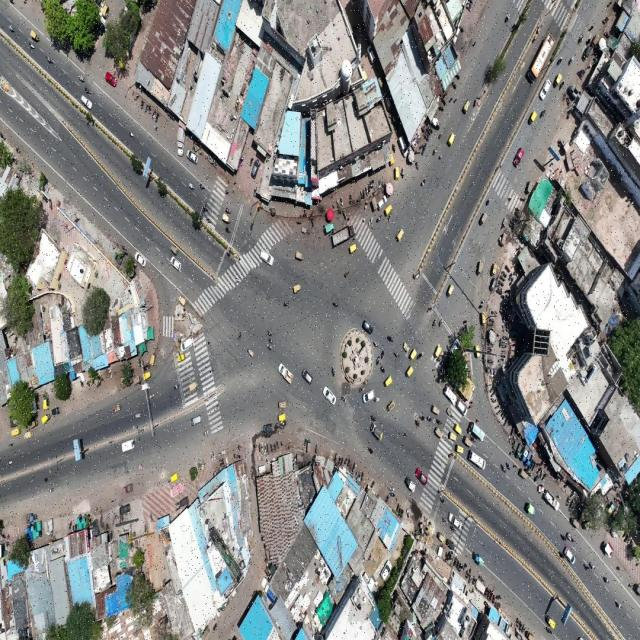3W: (402, 475, 417, 495), (544, 610, 557, 628), (446, 282, 456, 298), (294, 247, 305, 261), (446, 427, 456, 442), (432, 426, 443, 439), (189, 380, 199, 394), (30, 28, 39, 43), (386, 400, 396, 413), (452, 420, 462, 433), (529, 108, 537, 124), (434, 344, 442, 360), (384, 374, 393, 388), (40, 414, 51, 425), (221, 212, 232, 223), (22, 430, 34, 440), (463, 100, 470, 116), (169, 471, 179, 482), (292, 282, 302, 293), (170, 244, 181, 254), (348, 244, 359, 254), (457, 444, 466, 456), (463, 435, 472, 447), (397, 227, 404, 242), (480, 212, 488, 225), (432, 402, 440, 415), (445, 408, 454, 419), (42, 397, 49, 411), (448, 134, 455, 148), (410, 347, 417, 361), (478, 260, 484, 276), (150, 352, 157, 365), (10, 428, 20, 437), (384, 204, 393, 214), (406, 365, 414, 376), (446, 538, 454, 549), (520, 467, 527, 479), (437, 533, 444, 544), (134, 376, 142, 385), (555, 72, 561, 84), (441, 512, 447, 524), (177, 355, 187, 362), (142, 373, 152, 380), (440, 492, 445, 506)
Bus: (526, 32, 555, 80)
Cars: (259, 246, 274, 270), (447, 510, 463, 532), (298, 367, 314, 387), (470, 449, 486, 469), (415, 466, 429, 487), (322, 385, 337, 403), (80, 93, 94, 112), (456, 397, 469, 417), (179, 336, 195, 352), (539, 80, 551, 100), (134, 250, 147, 268), (564, 547, 577, 565), (106, 70, 118, 89), (168, 256, 184, 270), (120, 439, 137, 452), (445, 384, 455, 405), (360, 319, 373, 335), (514, 148, 524, 168), (362, 388, 375, 402), (188, 414, 203, 426), (188, 150, 198, 164), (51, 406, 62, 417)
LCV: (278, 361, 294, 383), (545, 489, 560, 512), (471, 422, 485, 442), (176, 129, 185, 157), (370, 424, 384, 442), (474, 551, 485, 567), (122, 483, 134, 495), (24, 513, 38, 523), (526, 502, 536, 514), (324, 224, 334, 234)
M2W: (246, 344, 255, 360), (576, 30, 585, 45), (366, 443, 376, 456), (503, 457, 512, 471), (567, 530, 576, 544), (499, 461, 507, 476), (328, 300, 337, 313), (545, 626, 554, 639), (555, 54, 563, 68), (588, 557, 595, 572), (46, 55, 54, 68), (416, 352, 424, 363), (582, 562, 590, 573), (614, 598, 622, 609), (485, 196, 492, 208), (431, 318, 438, 330), (370, 412, 377, 424), (426, 411, 433, 423), (603, 576, 610, 588), (7, 26, 16, 35), (282, 298, 290, 308), (559, 532, 567, 542), (393, 348, 400, 359), (148, 392, 156, 401), (238, 328, 244, 340), (568, 54, 574, 66), (329, 367, 337, 376), (265, 326, 272, 336), (225, 204, 232, 214), (198, 180, 205, 190), (128, 128, 135, 138), (344, 268, 351, 278), (386, 334, 393, 344), (379, 348, 386, 358), (339, 392, 346, 402), (206, 366, 217, 372), (380, 364, 386, 375), (173, 382, 180, 391), (78, 74, 85, 83), (376, 214, 383, 223), (6, 457, 12, 467), (216, 400, 222, 410), (188, 181, 194, 191), (28, 40, 34, 50), (540, 106, 545, 118), (560, 79, 566, 89), (402, 430, 408, 440), (414, 416, 420, 426), (42, 475, 50, 482), (134, 412, 142, 419), (434, 419, 442, 426), (372, 339, 378, 348), (418, 414, 424, 423), (85, 86, 90, 96), (421, 178, 426, 188), (48, 486, 55, 493), (202, 429, 209, 436), (433, 147, 438, 156), (439, 319, 444, 328), (8, 442, 15, 448), (268, 337, 274, 344), (266, 345, 272, 352), (376, 356, 380, 366), (439, 151, 442, 164), (438, 131, 442, 140), (389, 214, 393, 222)
Truck: (331, 222, 355, 246)
